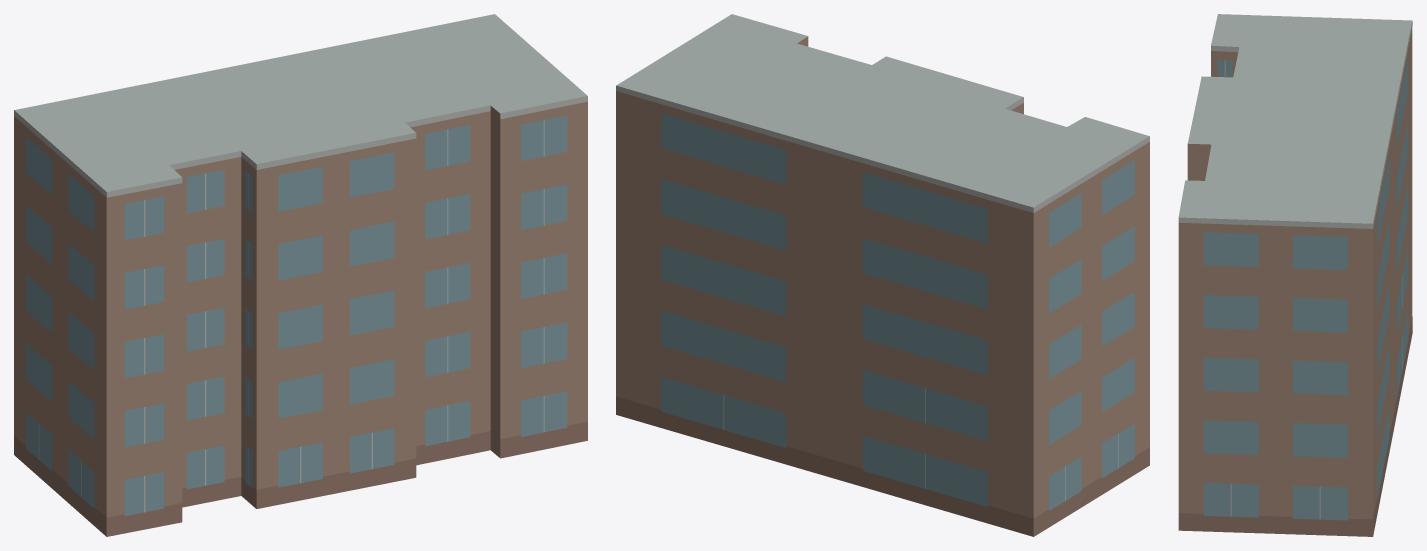
Rendered from survey-upis-32960856.glb.
3 views of the same model, side by side, from view 1: azimuth 30°, elevation 25°; view 2: azimuth 150°, elevation 25°; view 3: azimuth 270°, elevation 25° (orthographic). The views are drawn at different scales.
Visible parts, largest first — view 1: survey-upis-32960856.tmp; view 2: survey-upis-32960856.tmp; view 3: survey-upis-32960856.tmp.
Boxes of the visible parts, bbox=[...] form: survey-upis-32960856.tmp: bbox=[14, 14, 587, 536]; survey-upis-32960856.tmp: bbox=[616, 14, 1149, 536]; survey-upis-32960856.tmp: bbox=[1178, 14, 1412, 536].
Bounding box in the file's own units: 21.14 × 14.7 × 9.97.
